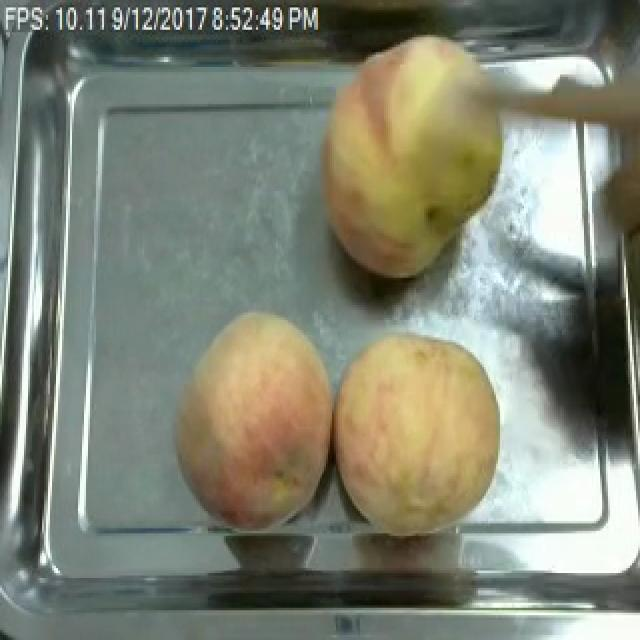Fruit: (308, 25, 514, 288), (326, 322, 512, 541), (168, 305, 344, 533)
